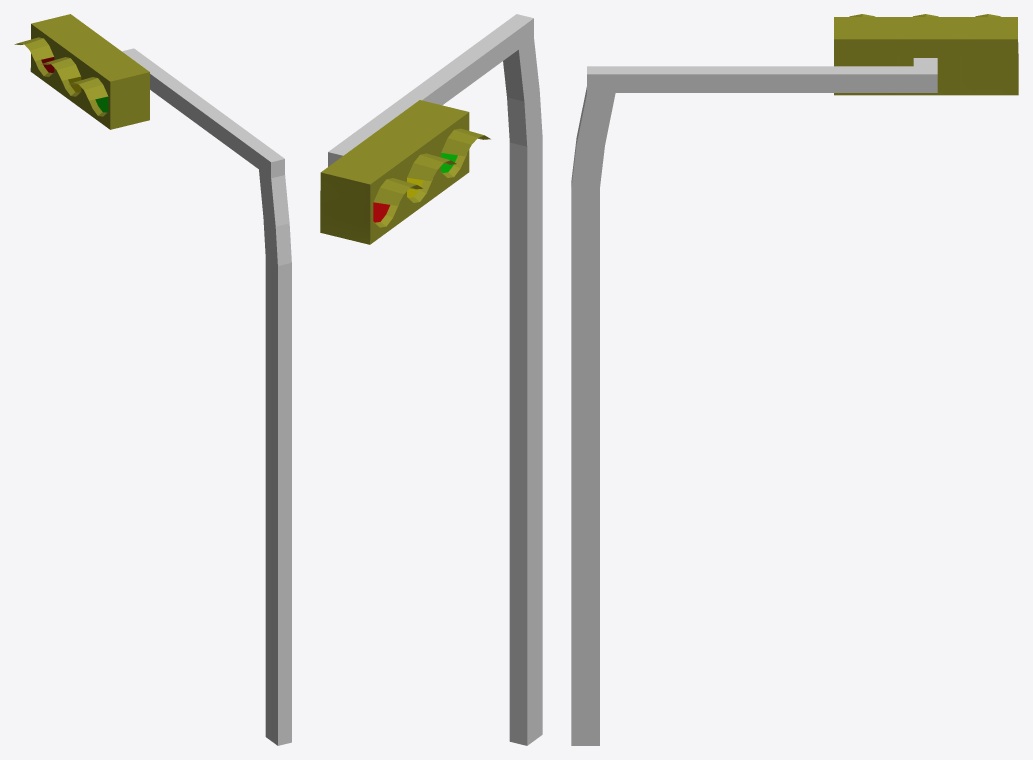
The model's file is TrafficLightHorizontal_HT.fbx.
3 views of the same model, side by side, from view 1: azimuth 30°, elevation 25°; view 2: azimuth 150°, elevation 25°; view 3: azimuth 270°, elevation 25° (orthographic). The views are drawn at different scales.
Visible parts, largest first — view 1: Box006.001; view 2: Box006.001; view 3: Box006.001.
Boxes of the visible parts, x1,y1,x2,y2 form: Box006.001: [14, 14, 291, 745]; Box006.001: [320, 14, 542, 745]; Box006.001: [571, 14, 1018, 745].
Size of the model in its own units: 101 by 655 by 385.
